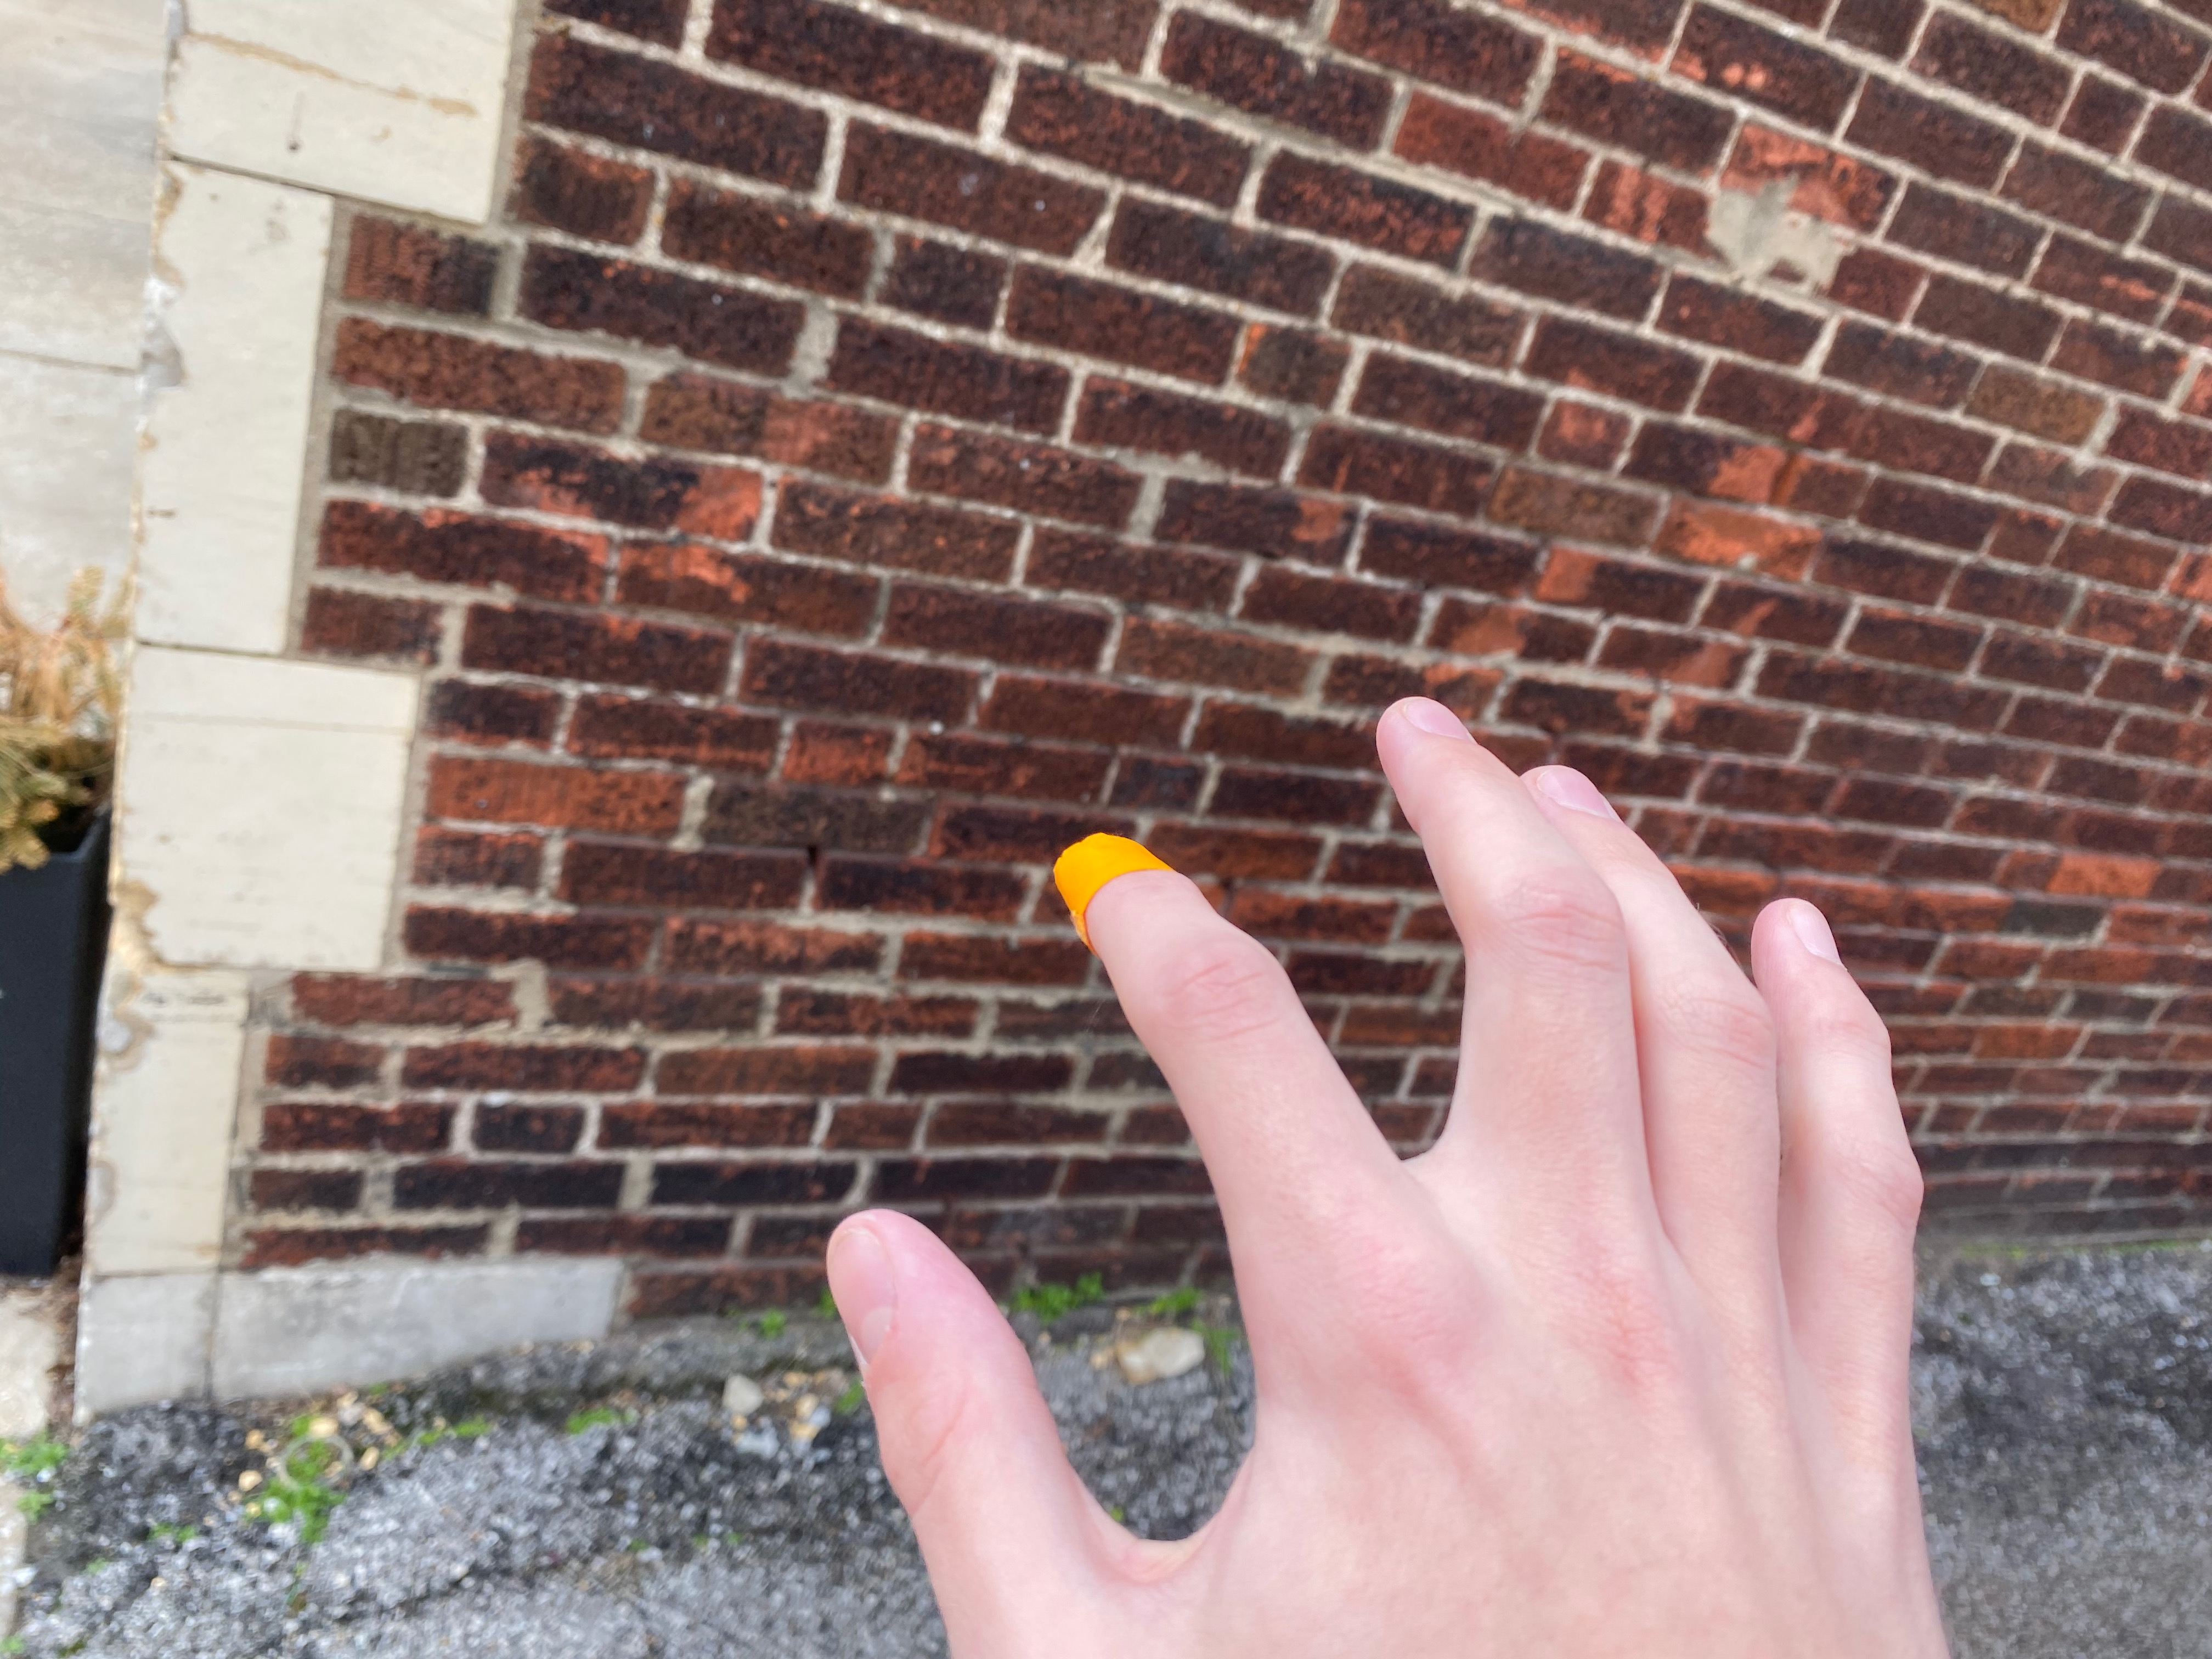fingertip: (1015, 805, 1235, 988)
